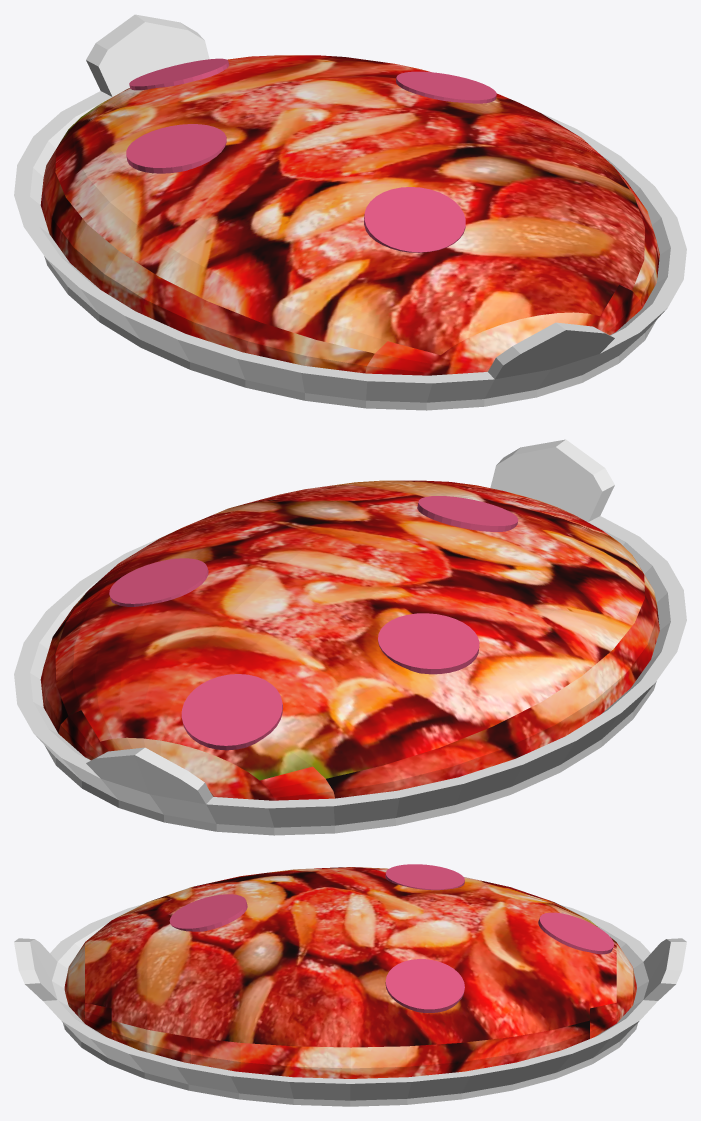
The model's file is calabresa.fbx.
The picture shows the model from 3 angles, top to bottom: view 1: azimuth 30°, elevation 25°; view 2: azimuth 150°, elevation 25°; view 3: azimuth 270°, elevation 25°; orthographic projection. The views are drawn at different scales.
Visible parts, largest first — view 1: Sphere, Cylinder.004, Circle.003; view 2: Sphere, Cylinder.004, Circle.003; view 3: Sphere, Cylinder.004, Circle.003.
Part boxes in pixels (x1,y1,x2,y2): Sphere: [40, 55, 659, 375]; Cylinder.004: [14, 14, 686, 410]; Circle.003: [126, 58, 496, 252]; Sphere: [40, 480, 659, 800]; Cylinder.004: [14, 439, 686, 835]; Circle.003: [109, 496, 518, 750]; Sphere: [64, 867, 636, 1078]; Cylinder.004: [14, 904, 686, 1106]; Circle.003: [169, 864, 613, 1012].
Size of the model in its own units: 200 by 44.81 by 276.
